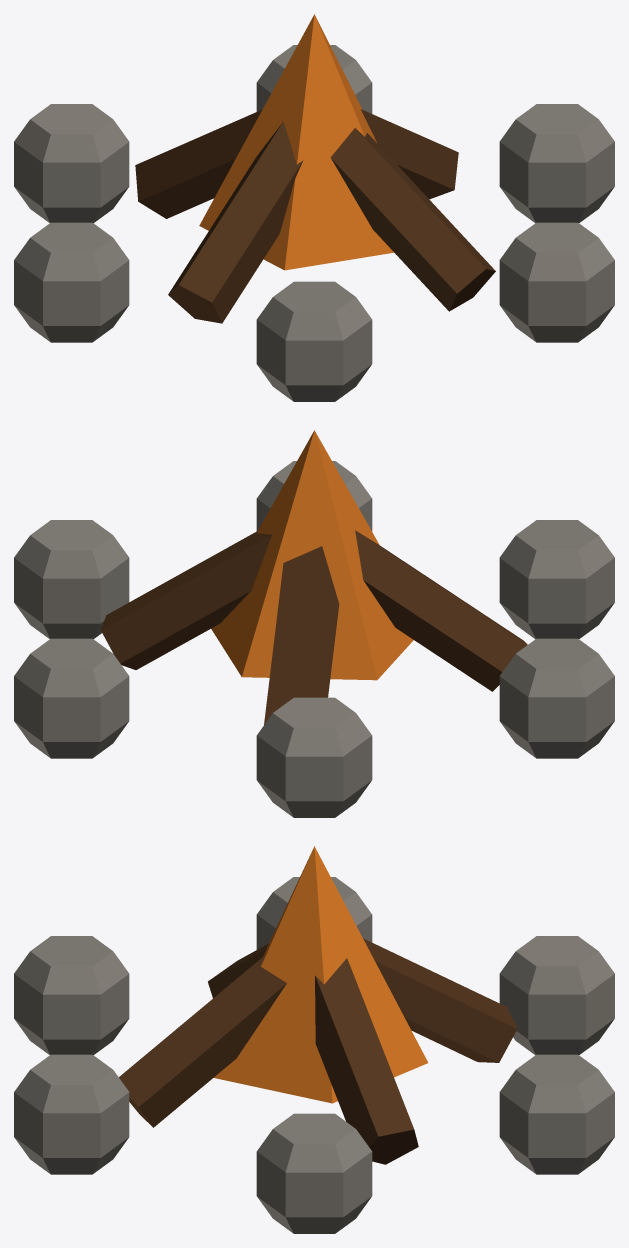
The model's file is bonfire_broken.glb.
3 renders of one model, top to bottom at view 1: azimuth 30°, elevation 25°; view 2: azimuth 150°, elevation 25°; view 3: azimuth 270°, elevation 25°, orthographic.
Parts seen in each view (by area): view 1: bonfire_piece4, bonfire_piece2, bonfire_piece1, bonfire_piece5, bonfire_piece3, bonfire_piece0; view 2: bonfire_piece1, bonfire_piece5, bonfire_piece2, bonfire_piece0, bonfire_piece4, bonfire_piece3; view 3: bonfire_piece0, bonfire_piece4, bonfire_piece3, bonfire_piece1, bonfire_piece5, bonfire_piece2.
Boxes of the visible parts, box(x1,y1,x2,y2) form: bonfire_piece4: box(256, 149, 614, 401); bonfire_piece2: box(14, 195, 351, 363); bonfire_piece1: box(14, 45, 297, 230); bonfire_piece5: box(216, 14, 365, 218); bonfire_piece3: box(352, 104, 614, 237); bonfire_piece0: box(330, 45, 458, 199); bonfire_piece1: box(25, 599, 541, 817); bonfire_piece5: box(238, 430, 438, 677); bonfire_piece2: box(389, 569, 614, 758); bonfire_piece0: box(14, 507, 271, 749); bonfire_piece4: box(293, 461, 614, 639); bonfire_piece3: box(14, 461, 294, 639); bonfire_piece0: box(274, 948, 598, 1174); bonfire_piece4: box(14, 936, 250, 1174); bonfire_piece3: box(51, 951, 372, 1233); bonfire_piece1: box(344, 890, 614, 1167); bonfire_piece5: box(252, 846, 428, 1067); bonfire_piece2: box(208, 877, 372, 998).
Size of the model in its own units: 0.4006 by 0.17 by 0.3644.
